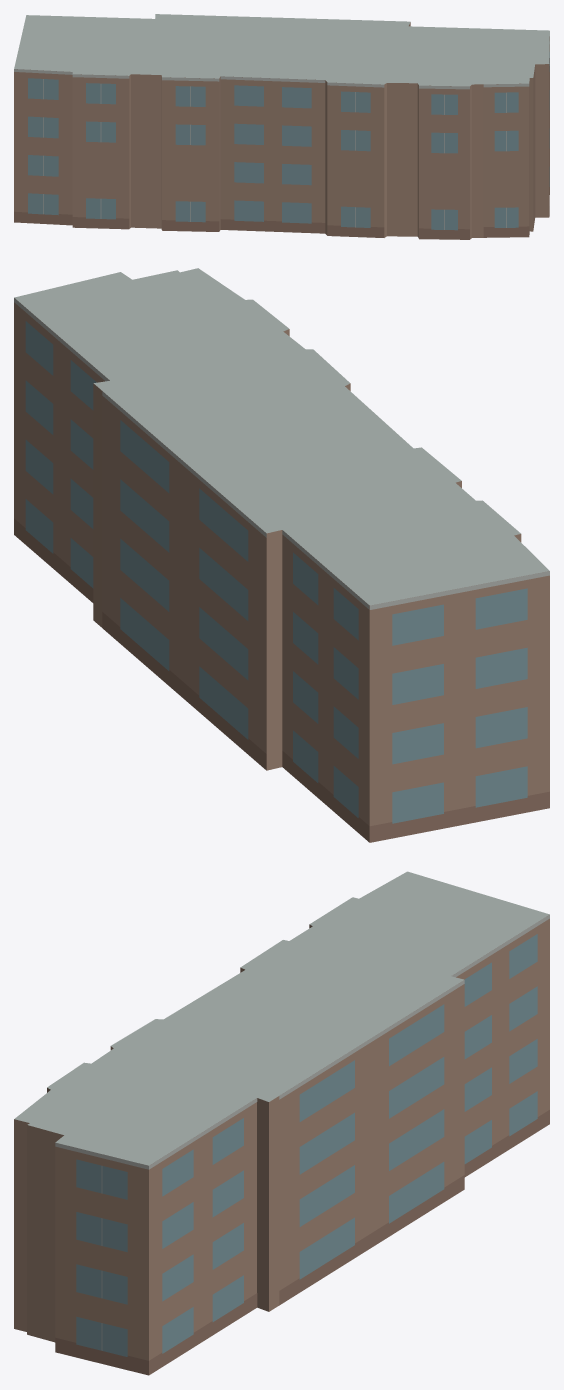
Rendered from survey-upis-32768425.glb.
3 views of the same model, one above another, from view 1: azimuth 30°, elevation 25°; view 2: azimuth 150°, elevation 25°; view 3: azimuth 270°, elevation 25° (orthographic). The views are drawn at different scales.
Parts seen in each view (by area): view 1: survey-upis-32768425.tmp; view 2: survey-upis-32768425.tmp; view 3: survey-upis-32768425.tmp.
Part boxes in pixels (x1,y1,x2,y2): survey-upis-32768425.tmp: (14, 14, 549, 239); survey-upis-32768425.tmp: (14, 268, 549, 842); survey-upis-32768425.tmp: (14, 871, 549, 1375).
Size of the model in its own units: 38.22 by 12.7 by 29.41.
